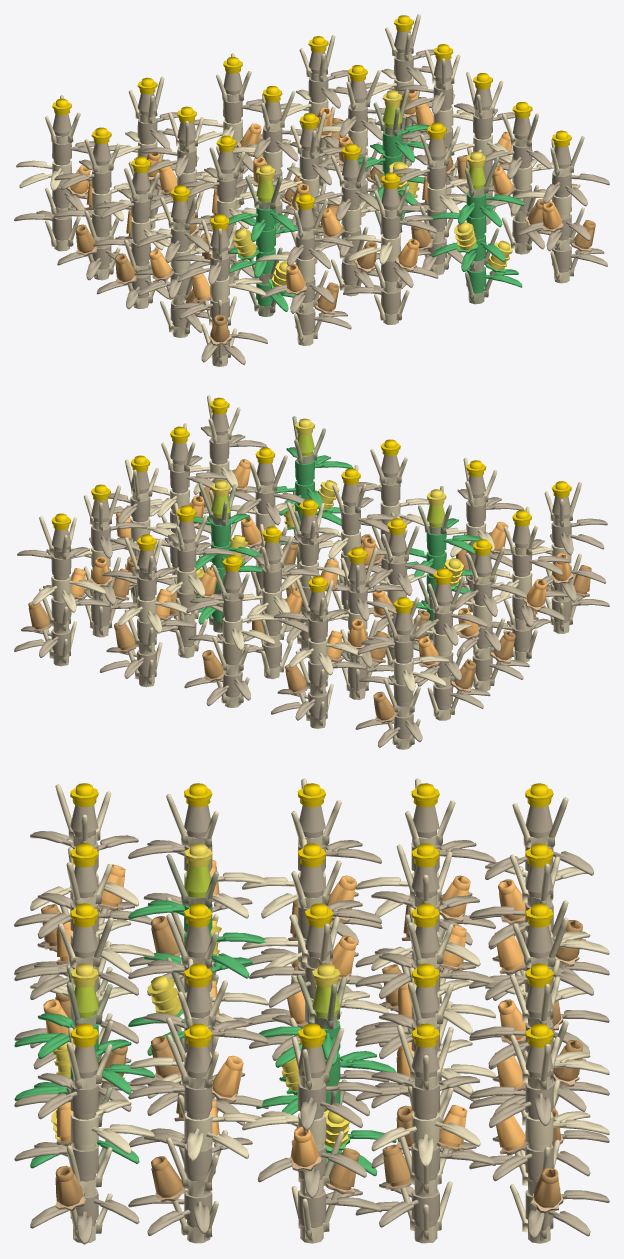
The model's file is cornfield_lod1.fbx.
3 renders of one model, top to bottom at view 1: azimuth 30°, elevation 25°; view 2: azimuth 150°, elevation 25°; view 3: azimuth 270°, elevation 25°, orthographic. The views are drawn at different scales.
Visible parts, largest first — view 1: Corn_Field_LOD1; view 2: Corn_Field_LOD1; view 3: Corn_Field_LOD1.
Part boxes in pixels (box(x1,y1,x2,y2)): Corn_Field_LOD1: box(14, 14, 609, 366); Corn_Field_LOD1: box(14, 395, 609, 749); Corn_Field_LOD1: box(14, 778, 609, 1244).
Bounding box in the file's own units: 499 × 165 × 419.
